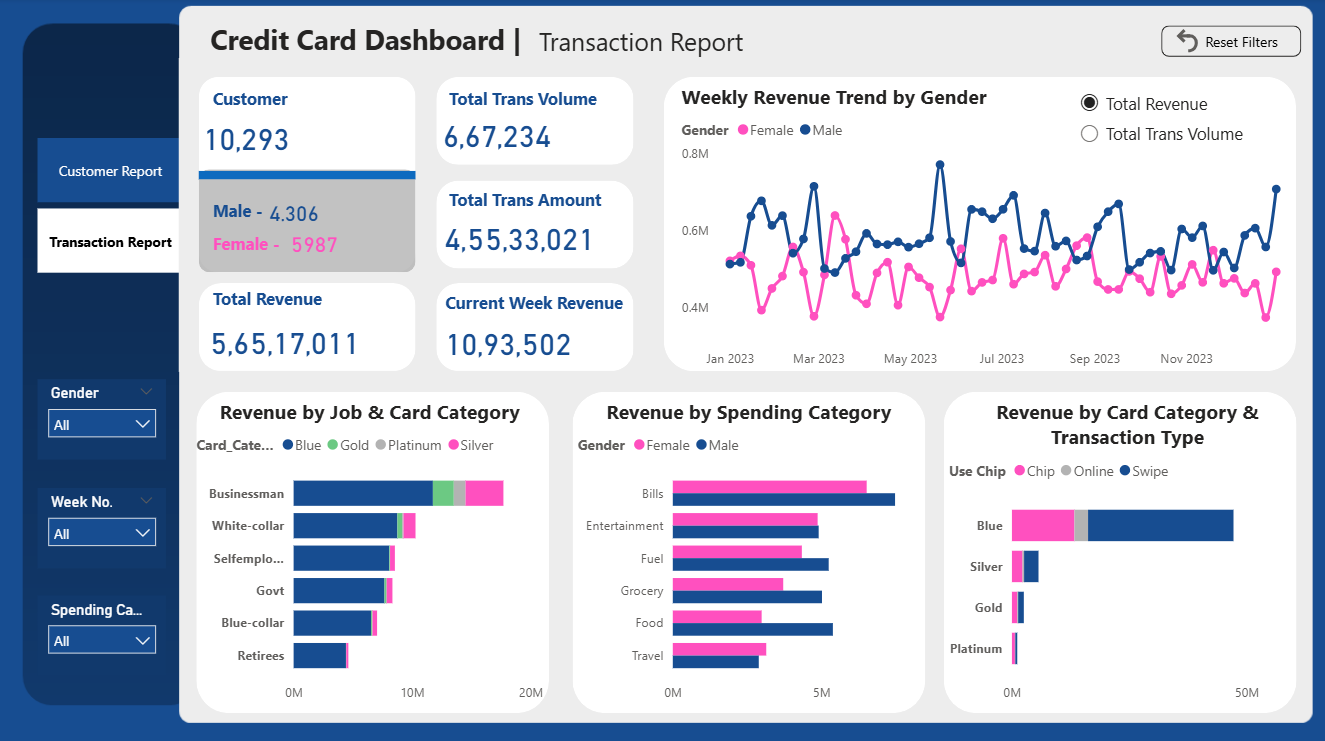

The page's visual inventory and layout, read from the dashboard file:
{"tool":"powerbi","page":{"name":"Transaction Report","canvas":[1280,720],"ordinal":1},"visuals":[{"type":"shape","box":[910.4,379.4,340.5,310.2],"z":0},{"type":"shape","box":[552.6,379.4,340.5,310.2],"z":1000},{"type":"shape","box":[189,379.4,340.5,310.2],"z":2000},{"type":"shape","box":[640.6,76.5,610.3,284.2],"z":3000},{"type":"shape","box":[192,76,209.2,189],"z":4000},{"type":"shape","box":[192,275.1,209.2,85.1],"z":5000},{"type":"textbox","box":[199.9,80.4,132.7,31.4],"z":6000},{"type":"shape","box":[192,165.5,209.2,99.6],"z":7000},{"type":"textbox","box":[200.7,188.9,67.8,31.7],"z":8000},{"type":"textbox","box":[200.7,220.6,88,36.1],"z":9000},{"type":"card","fields":{"Values":["Measures Table.Male count"]},"box":[237,193,95.2,26],"z":10000},{"type":"card","fields":{"Values":["Measures Table.Female count"]},"box":[255.5,223,95.2,26],"z":11000},{"type":"shape","box":[192,125.1,209.2,90.9],"z":12000},{"type":"shape","box":[421.3,76.5,190.4,85.1],"z":13000},{"type":"shape","box":[421.3,176,190.4,85.1],"z":14000},{"type":"shape","box":[421.3,275.6,190.4,85.1],"z":15000},{"type":"textbox","box":[200.7,273.7,132.7,31.7],"z":16000},{"type":"card","fields":{"Values":["Measures Table.Total Revenue"]},"box":[187.7,305.4,173.1,53.4],"z":17000},{"type":"textbox","box":[428.5,80.8,173.1,31.7],"z":18000},{"type":"card","fields":{"Values":["Measures Table.Total Trans Volume"]},"box":[393.9,105.3,173.1,53.4],"z":19000},{"type":"textbox","box":[428.5,178.9,173.1,31.7],"z":20000},{"type":"card","fields":{"Values":["Measures Table.Total Trans Amount"]},"box":[415.5,204.9,173.1,53.4],"z":21000},{"type":"textbox","box":[424.2,277,187.6,31.7],"z":22000},{"type":"card","fields":{"Values":["Measures Table.cur_week_revenue"]},"box":[404,305.9,173.1,53.4],"z":23000},{"type":"card","fields":{"Values":["Measures Table.Customer Count"]},"box":[177.5,108.2,121.2,53.4],"z":24000},{"type":"lineChart","title":"Weekly Revenue Trend by Gender","fields":{"Y":["Measures Table.Total Revenue"],"Category":["cc_detail.Week_Start_Date.Variation.Date Hierarchy.Year","cc_detail.Week_Start_Date.Variation.Date Hierarchy.Quarter","cc_detail.Week_Start_Date.Variation.Date Hierarchy.Month","cc_detail.Week_Start_Date.Variation.Date Hierarchy.Day"],"Series":["customer_data.Gender"]},"box":[652.1,82.2,610.3,284.2],"z":25000},{"type":"barChart","title":"Revenue by Job & Card Category","fields":{"Category":["customer_data.Customer_Job"],"Y":["Measures Table.Total Revenue"],"Series":["cc_detail.Card_Category"]},"box":[184.7,386.7,344.8,303],"z":26000},{"type":"barChart","title":"Revenue by Card Category & Transaction Type","fields":{"Category":["cc_detail.Card_Category"],"Y":["Measures Table.Total Revenue"],"Series":["cc_detail.Use Chip"]},"box":[910.4,386.7,354.9,303],"z":27000},{"type":"clusteredBarChart","title":"Revenue by Spending Category","fields":{"Category":["cc_detail.Exp Type"],"Y":["Measures Table.Total Revenue"],"Series":["customer_data.Gender"]},"box":[552.6,386.7,340.5,303],"z":28000},{"type":"slicer","fields":{"Values":["Parameter 1.Parameter 1"]},"box":[1030.1,82.2,220.7,70.7],"z":29000},{"type":"textbox","box":[197.7,17.3,320.3,57.7],"z":30000},{"type":"textbox","box":[515.1,20.2,235.2,44.7],"z":31000},{"type":"pageNavigator","box":[36.2,135.1,141.2,130.3],"z":32000},{"type":"shape","box":[172.5,57.9,9.7,302.8],"z":32501},{"type":"shape","box":[1120.8,26.5,135.1,30.2],"z":32502},{"type":"actionButton","box":[1130.4,25.3,39.8,31.4],"z":32503},{"type":"textbox","box":[1158.5,27.4,92.3,31.7],"z":32504},{"type":"slicer","fields":{"Values":["customer_data.Gender"]},"box":[36.1,367.9,124.1,77.9],"z":32505},{"type":"slicer","fields":{"Values":["cc_detail.week_num2"]},"box":[36.1,472.5,124.1,77.9],"z":32506},{"type":"slicer","fields":{"Values":["cc_detail.Exp Type"]},"box":[36.1,577.1,124.1,77.9],"z":32507}]}

Visuals, with their boxes on the page's 1280x720 design canvas (x1, y1, x2, y2). These are canvas units, not pixel positions in the 1325x741 screenshot, which may show the page scaled, cropped or inside an application window:
shape: (910,379,1251,690)
shape: (553,379,893,690)
shape: (189,379,530,690)
shape: (641,76,1251,361)
shape: (192,76,401,265)
shape: (192,275,401,360)
textbox: (200,80,333,112)
shape: (192,166,401,265)
textbox: (201,189,268,221)
textbox: (201,221,289,257)
card - Measures Table.Male count: (237,193,332,219)
card - Measures Table.Female count: (256,223,351,249)
shape: (192,125,401,216)
shape: (421,76,612,162)
shape: (421,176,612,261)
shape: (421,276,612,361)
textbox: (201,274,333,305)
card - Measures Table.Total Revenue: (188,305,361,359)
textbox: (428,81,602,112)
card - Measures Table.Total Trans Volume: (394,105,567,159)
textbox: (428,179,602,211)
card - Measures Table.Total Trans Amount: (416,205,589,258)
textbox: (424,277,612,309)
card - Measures Table.cur_week_revenue: (404,306,577,359)
card - Measures Table.Customer Count: (178,108,299,162)
"Weekly Revenue Trend by Gender" lineChart: (652,82,1262,366)
"Revenue by Job & Card Category" barChart: (185,387,530,690)
"Revenue by Card Category & Transaction Type" barChart: (910,387,1265,690)
"Revenue by Spending Category" clusteredBarChart: (553,387,893,690)
slicer - Parameter 1.Parameter 1: (1030,82,1251,153)
textbox: (198,17,518,75)
textbox: (515,20,750,65)
pageNavigator: (36,135,177,265)
shape: (172,58,182,361)
shape: (1121,26,1256,57)
actionButton: (1130,25,1170,57)
textbox: (1158,27,1251,59)
slicer - customer_data.Gender: (36,368,160,446)
slicer - cc_detail.week_num2: (36,472,160,550)
slicer - cc_detail.Exp Type: (36,577,160,655)
